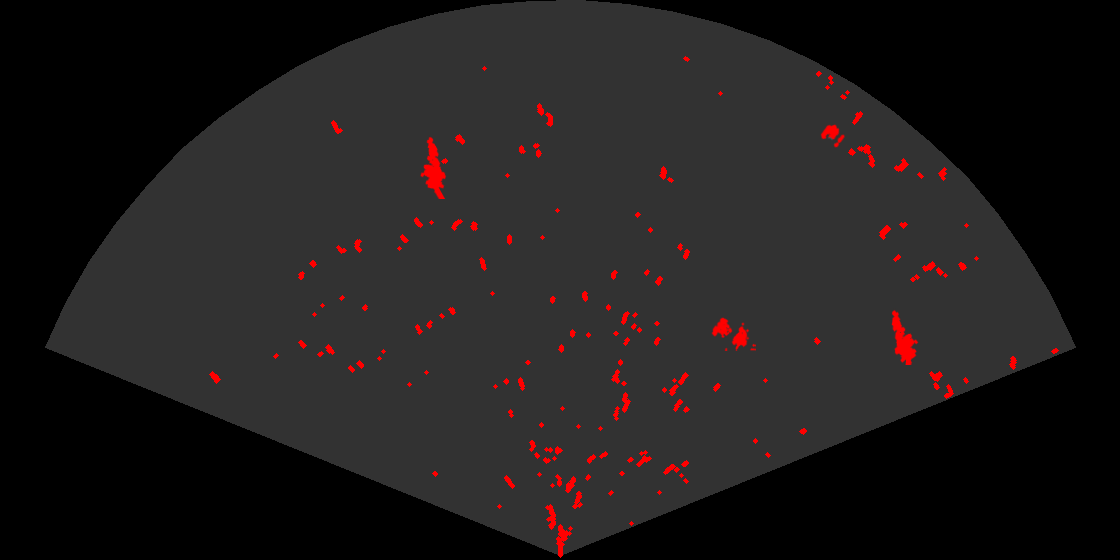ball: (819, 123, 847, 149)
cage: (710, 316, 756, 351)
frogman: (419, 135, 448, 199), (890, 308, 920, 365)
